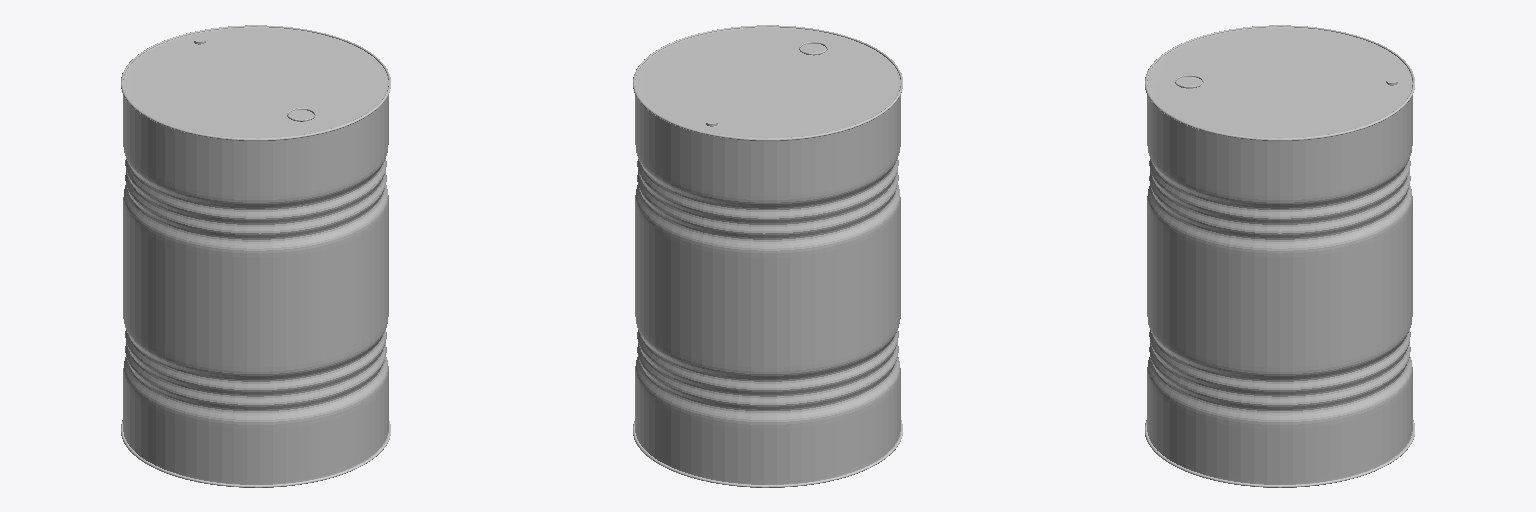
File: barrel.obj
The picture shows the model from 3 angles: view 1: azimuth 30°, elevation 25°; view 2: azimuth 150°, elevation 25°; view 3: azimuth 270°, elevation 25°; orthographic projection.
Parts seen in each view (by area): view 1: Cylinder001; view 2: Cylinder001; view 3: Cylinder001.
Part boxes in pixels (bbox=[...]): Cylinder001: bbox=[121, 25, 390, 487]; Cylinder001: bbox=[633, 25, 902, 487]; Cylinder001: bbox=[1145, 25, 1414, 487].
Size of the model in its own units: 59.71 by 85.32 by 59.77.